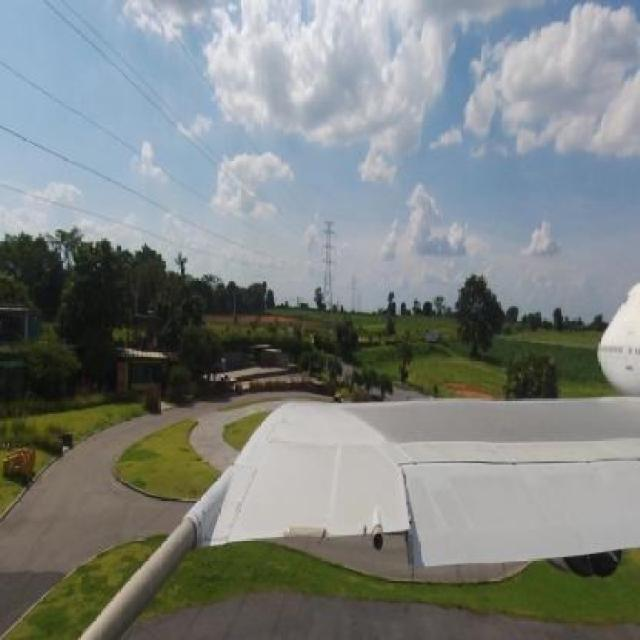Scartch: (227, 457, 264, 531), (262, 406, 306, 451)
